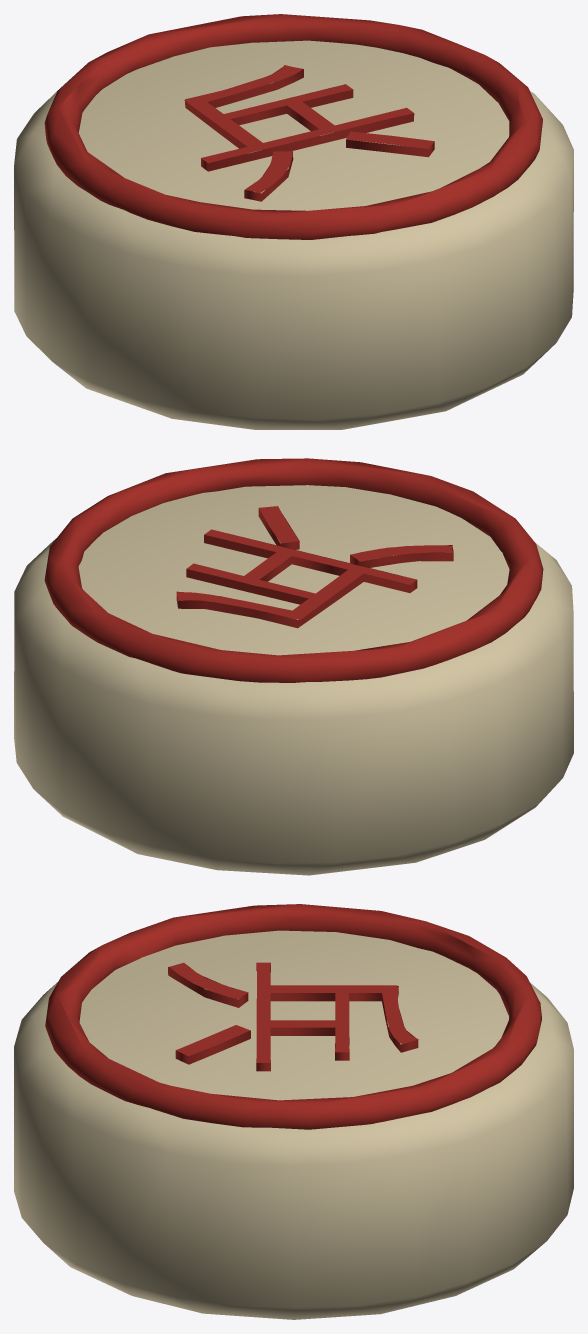
File: quan_do_tot.glb
3 renders of one model, top to bottom at view 1: azimuth 30°, elevation 25°; view 2: azimuth 150°, elevation 25°; view 3: azimuth 270°, elevation 25°, orthographic.
Parts seen in each view (by area): view 1: quan_do_tot; view 2: quan_do_tot; view 3: quan_do_tot.
Part boxes in pixels (x1,y1,x2,y2): quan_do_tot: (14,14,573,429); quan_do_tot: (14,458,573,875); quan_do_tot: (14,904,573,1319).
Bounding box in the file's own units: 0.0367 × 0.0153 × 0.0366.
